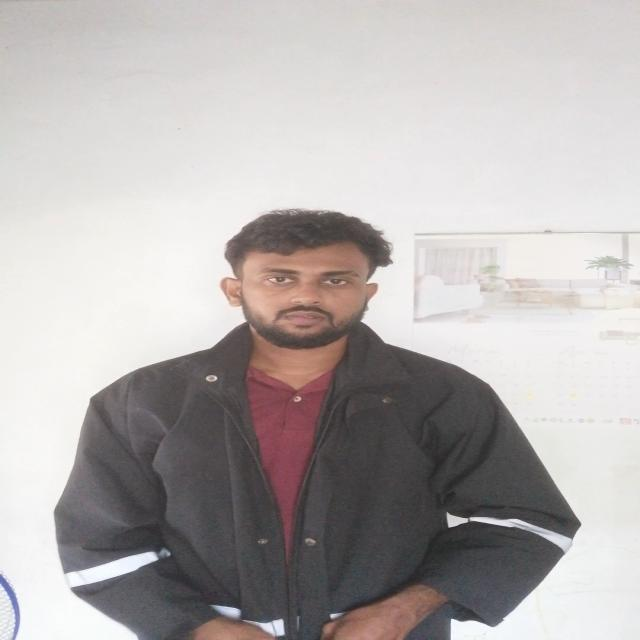Jacket_Wearer: (58, 298, 582, 640)
